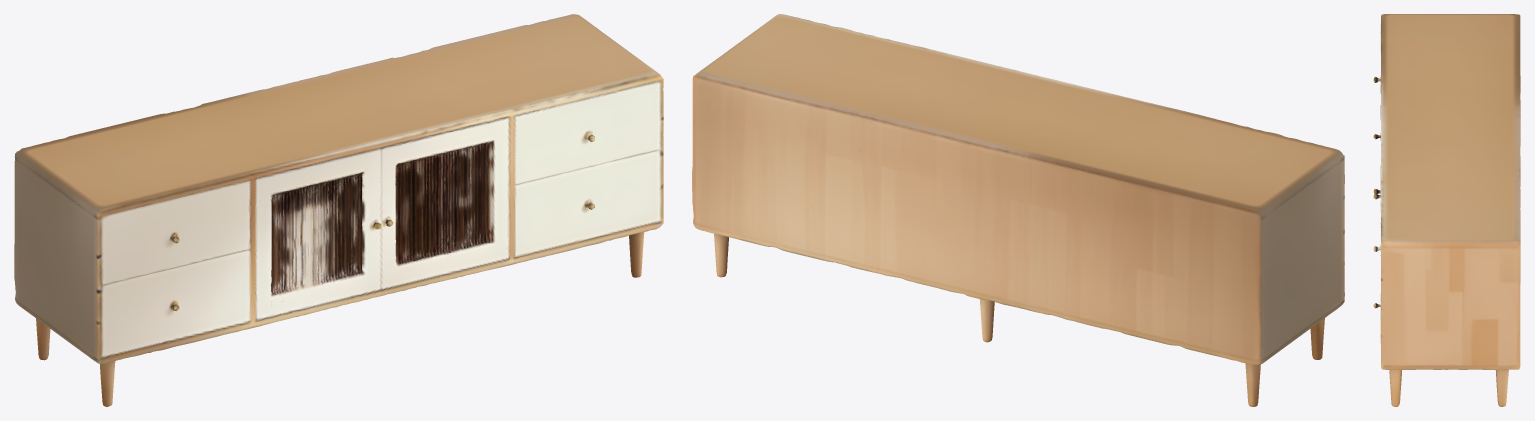
Rendered from 电视柜 (3).fbx.
The picture shows the model from 3 angles, left to right: view 1: azimuth 30°, elevation 25°; view 2: azimuth 150°, elevation 25°; view 3: azimuth 270°, elevation 25°; orthographic projection. The views are drawn at different scales.
Parts seen in each view (by area): view 1: model; view 2: model; view 3: model.
Boxes of the visible parts, <box> form: model: <box>14,14,663,406</box>; model: <box>692,14,1344,406</box>; model: <box>1373,14,1520,406</box>.
Bounding box in the file's own units: 188 × 65.31 × 50.72.
